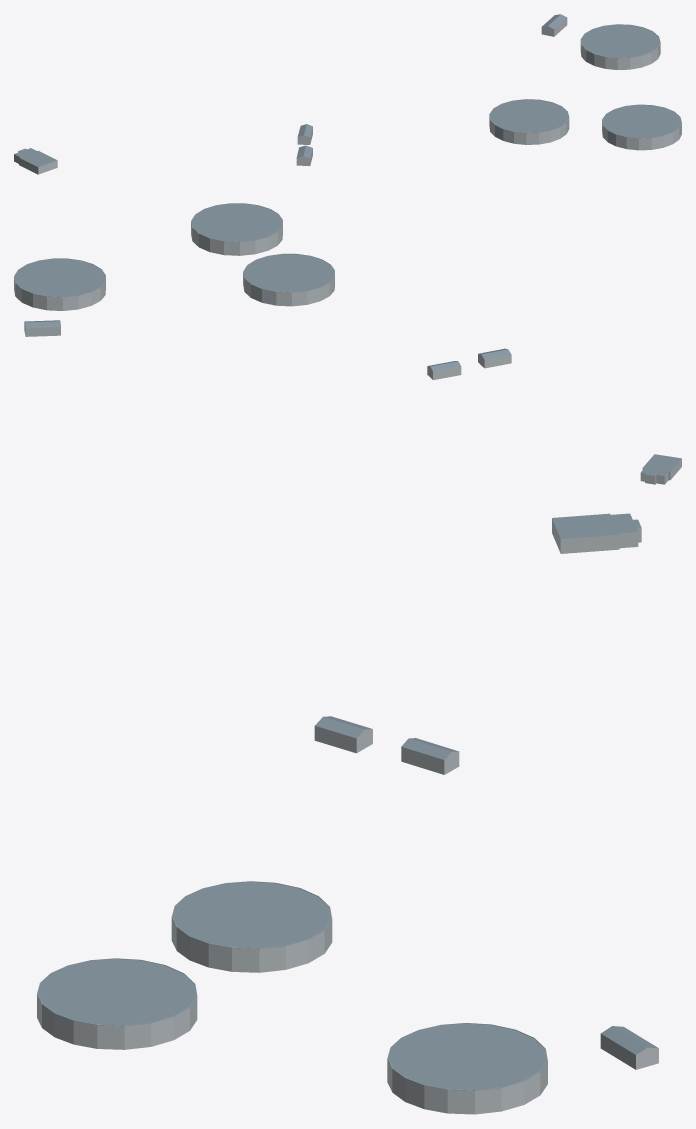
File: SM_MPR_Env_Far_S_Buildings.fbx
3 views of the same model, one above another, from view 1: azimuth 30°, elevation 25°; view 2: azimuth 150°, elevation 25°; view 3: azimuth 270°, elevation 25° (orthographic). The views are drawn at different scales.
Parts seen in each view (by area): view 1: SM_MPR_Env_Far_S_Buildings; view 2: SM_MPR_Env_Far_S_Buildings; view 3: SM_MPR_Env_Far_S_Buildings.
Boxes of the visible parts, x1,y1,x2,y2 form: SM_MPR_Env_Far_S_Buildings: (14,14,681,174); SM_MPR_Env_Far_S_Buildings: (14,203,681,484); SM_MPR_Env_Far_S_Buildings: (37,513,658,1114).
Size of the model in its own units: 47952 by 21514 by 916.
